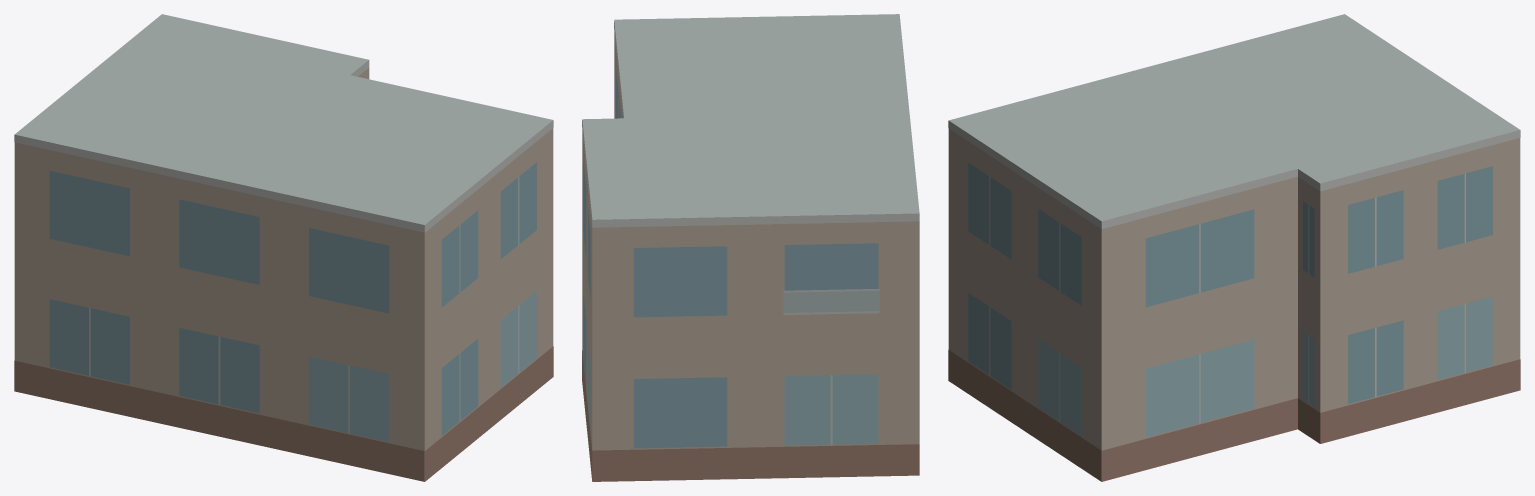
The model's file is survey-upis-32533101.glb.
3 views of the same model, side by side, from view 1: azimuth 30°, elevation 25°; view 2: azimuth 150°, elevation 25°; view 3: azimuth 270°, elevation 25° (orthographic). The views are drawn at different scales.
Parts seen in each view (by area): view 1: survey-upis-32533101.tmp; view 2: survey-upis-32533101.tmp; view 3: survey-upis-32533101.tmp.
Boxes of the visible parts, left/top/right/bottom form: survey-upis-32533101.tmp: left=14, top=14, right=553, bottom=481; survey-upis-32533101.tmp: left=582, top=14, right=919, bottom=481; survey-upis-32533101.tmp: left=948, top=14, right=1520, bottom=481.
Bounding box in the file's own units: 13.93 × 8.15 × 16.23.
